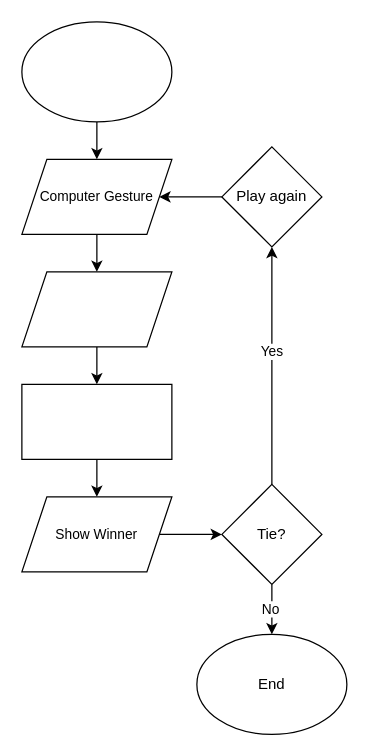
Image size: 369x756. Some labels were removed from this diagram. The shapes that lost their labels are listed below. From the top down, each one's centre as x and y in pixels, then its label:
At point 96,71: "Start".
At point 96,309: "Human Gesture".
At point 96,421: "Determine Winner".
